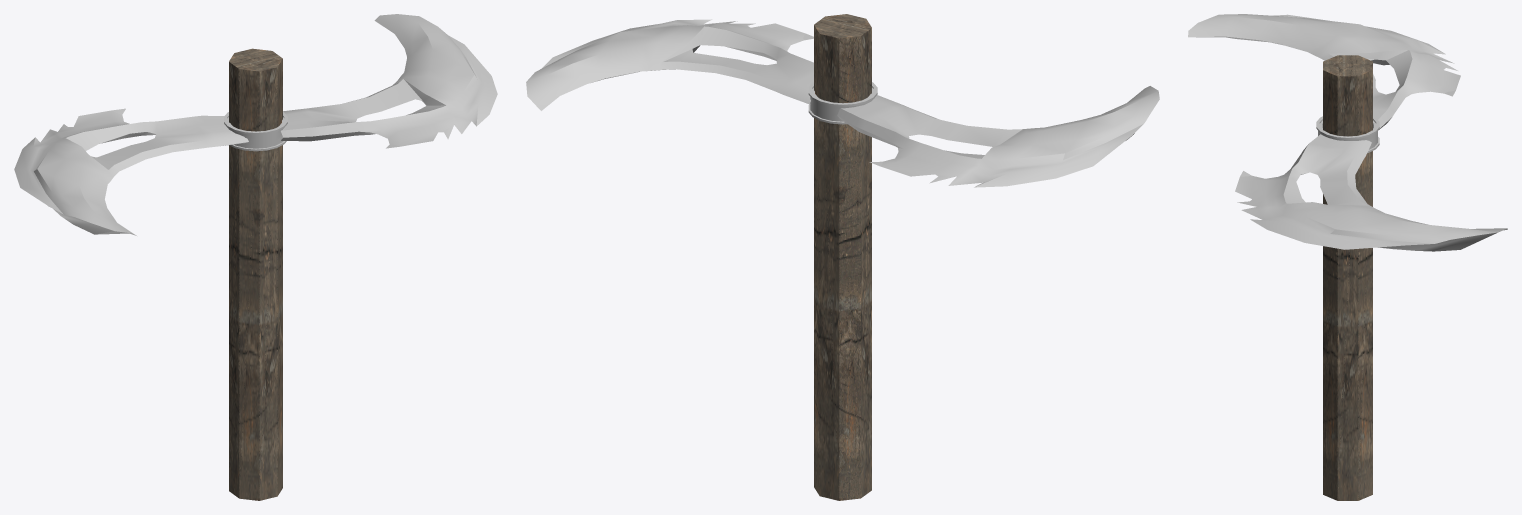
The model's file is blade 2.fbx.
3 renders of one model, left to right at view 1: azimuth 30°, elevation 25°; view 2: azimuth 150°, elevation 25°; view 3: azimuth 270°, elevation 25°, orthographic. The views are drawn at different scales.
Parts seen in each view (by area): view 1: blade, wood Cylinder; view 2: blade, wood Cylinder; view 3: blade, wood Cylinder.
Part boxes in pixels (x1,y1,x2,y2): blade: (14,14,497,235); wood Cylinder: (229,48,282,500); blade: (526,19,1159,187); wood Cylinder: (814,14,871,500); blade: (1188,14,1507,251); wood Cylinder: (1323,55,1372,500).
Bounding box in the file's own units: 744 × 639 × 436.
